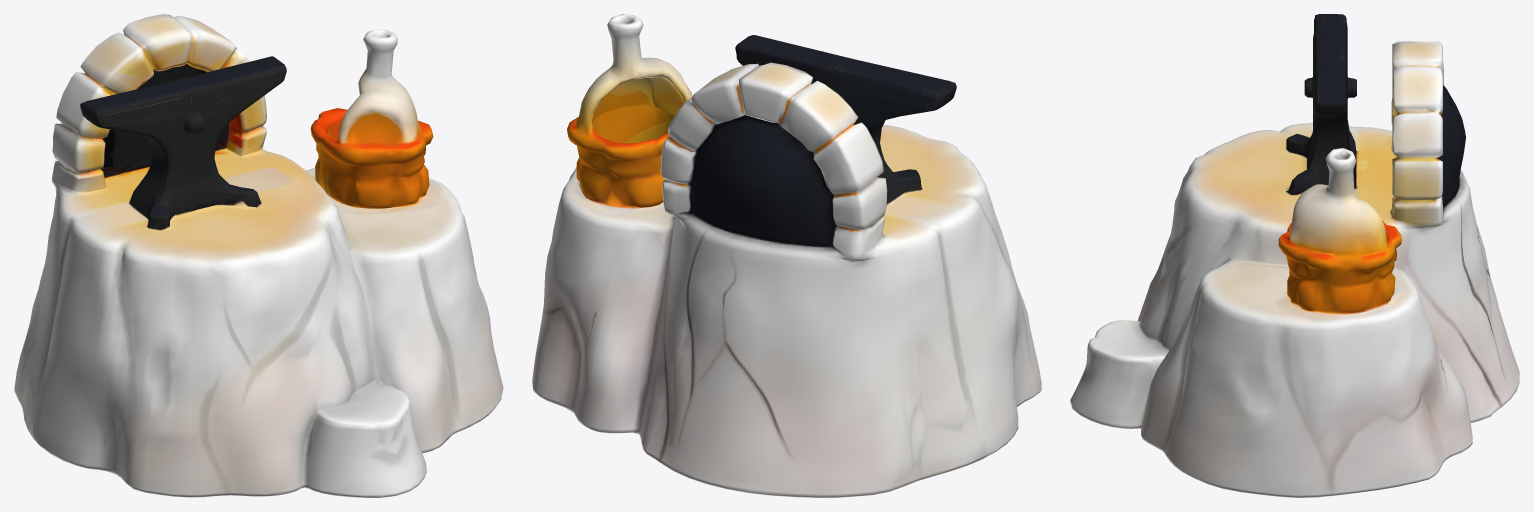
The model's file is forge_v2.glb.
The picture shows the model from 3 angles, left to right: view 1: azimuth 30°, elevation 25°; view 2: azimuth 150°, elevation 25°; view 3: azimuth 270°, elevation 25°; orthographic projection. The views are drawn at different scales.
Bounding box in the file's own units: 1.9 × 1.5 × 1.84.
1 material, 1 textured.
